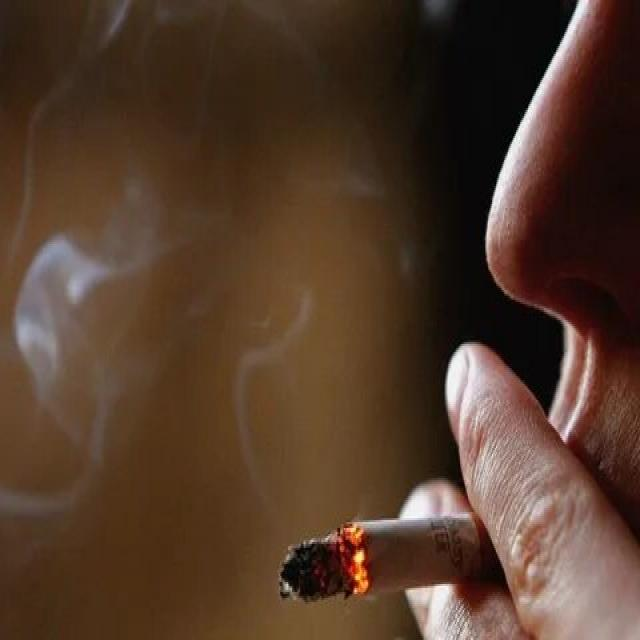cigarette: (272, 506, 501, 606)
